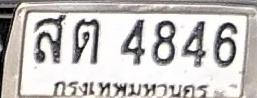4: (181, 20, 206, 68), (120, 18, 145, 65)
6: (213, 20, 237, 68)
8: (151, 18, 176, 65)
A21: (71, 18, 100, 64)
A40: (34, 13, 66, 64)
BKK: (47, 77, 210, 98)
